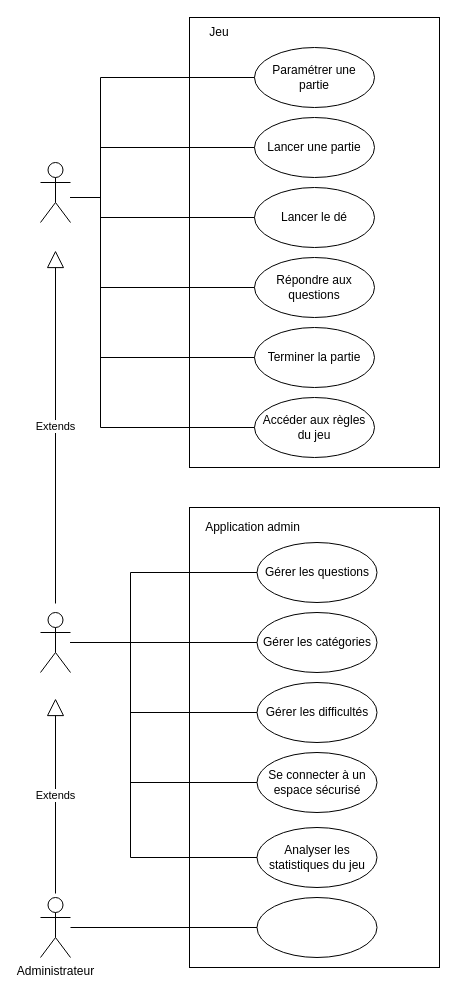
The diagram is 457 pixels wide and 996 high, and some of its shapes have lost their labels. Each missing label, with the centre of its shape:
Contributeur: pixel 55 642
Créer un compte: pixel 316 927
Joueur: pixel 55 192
